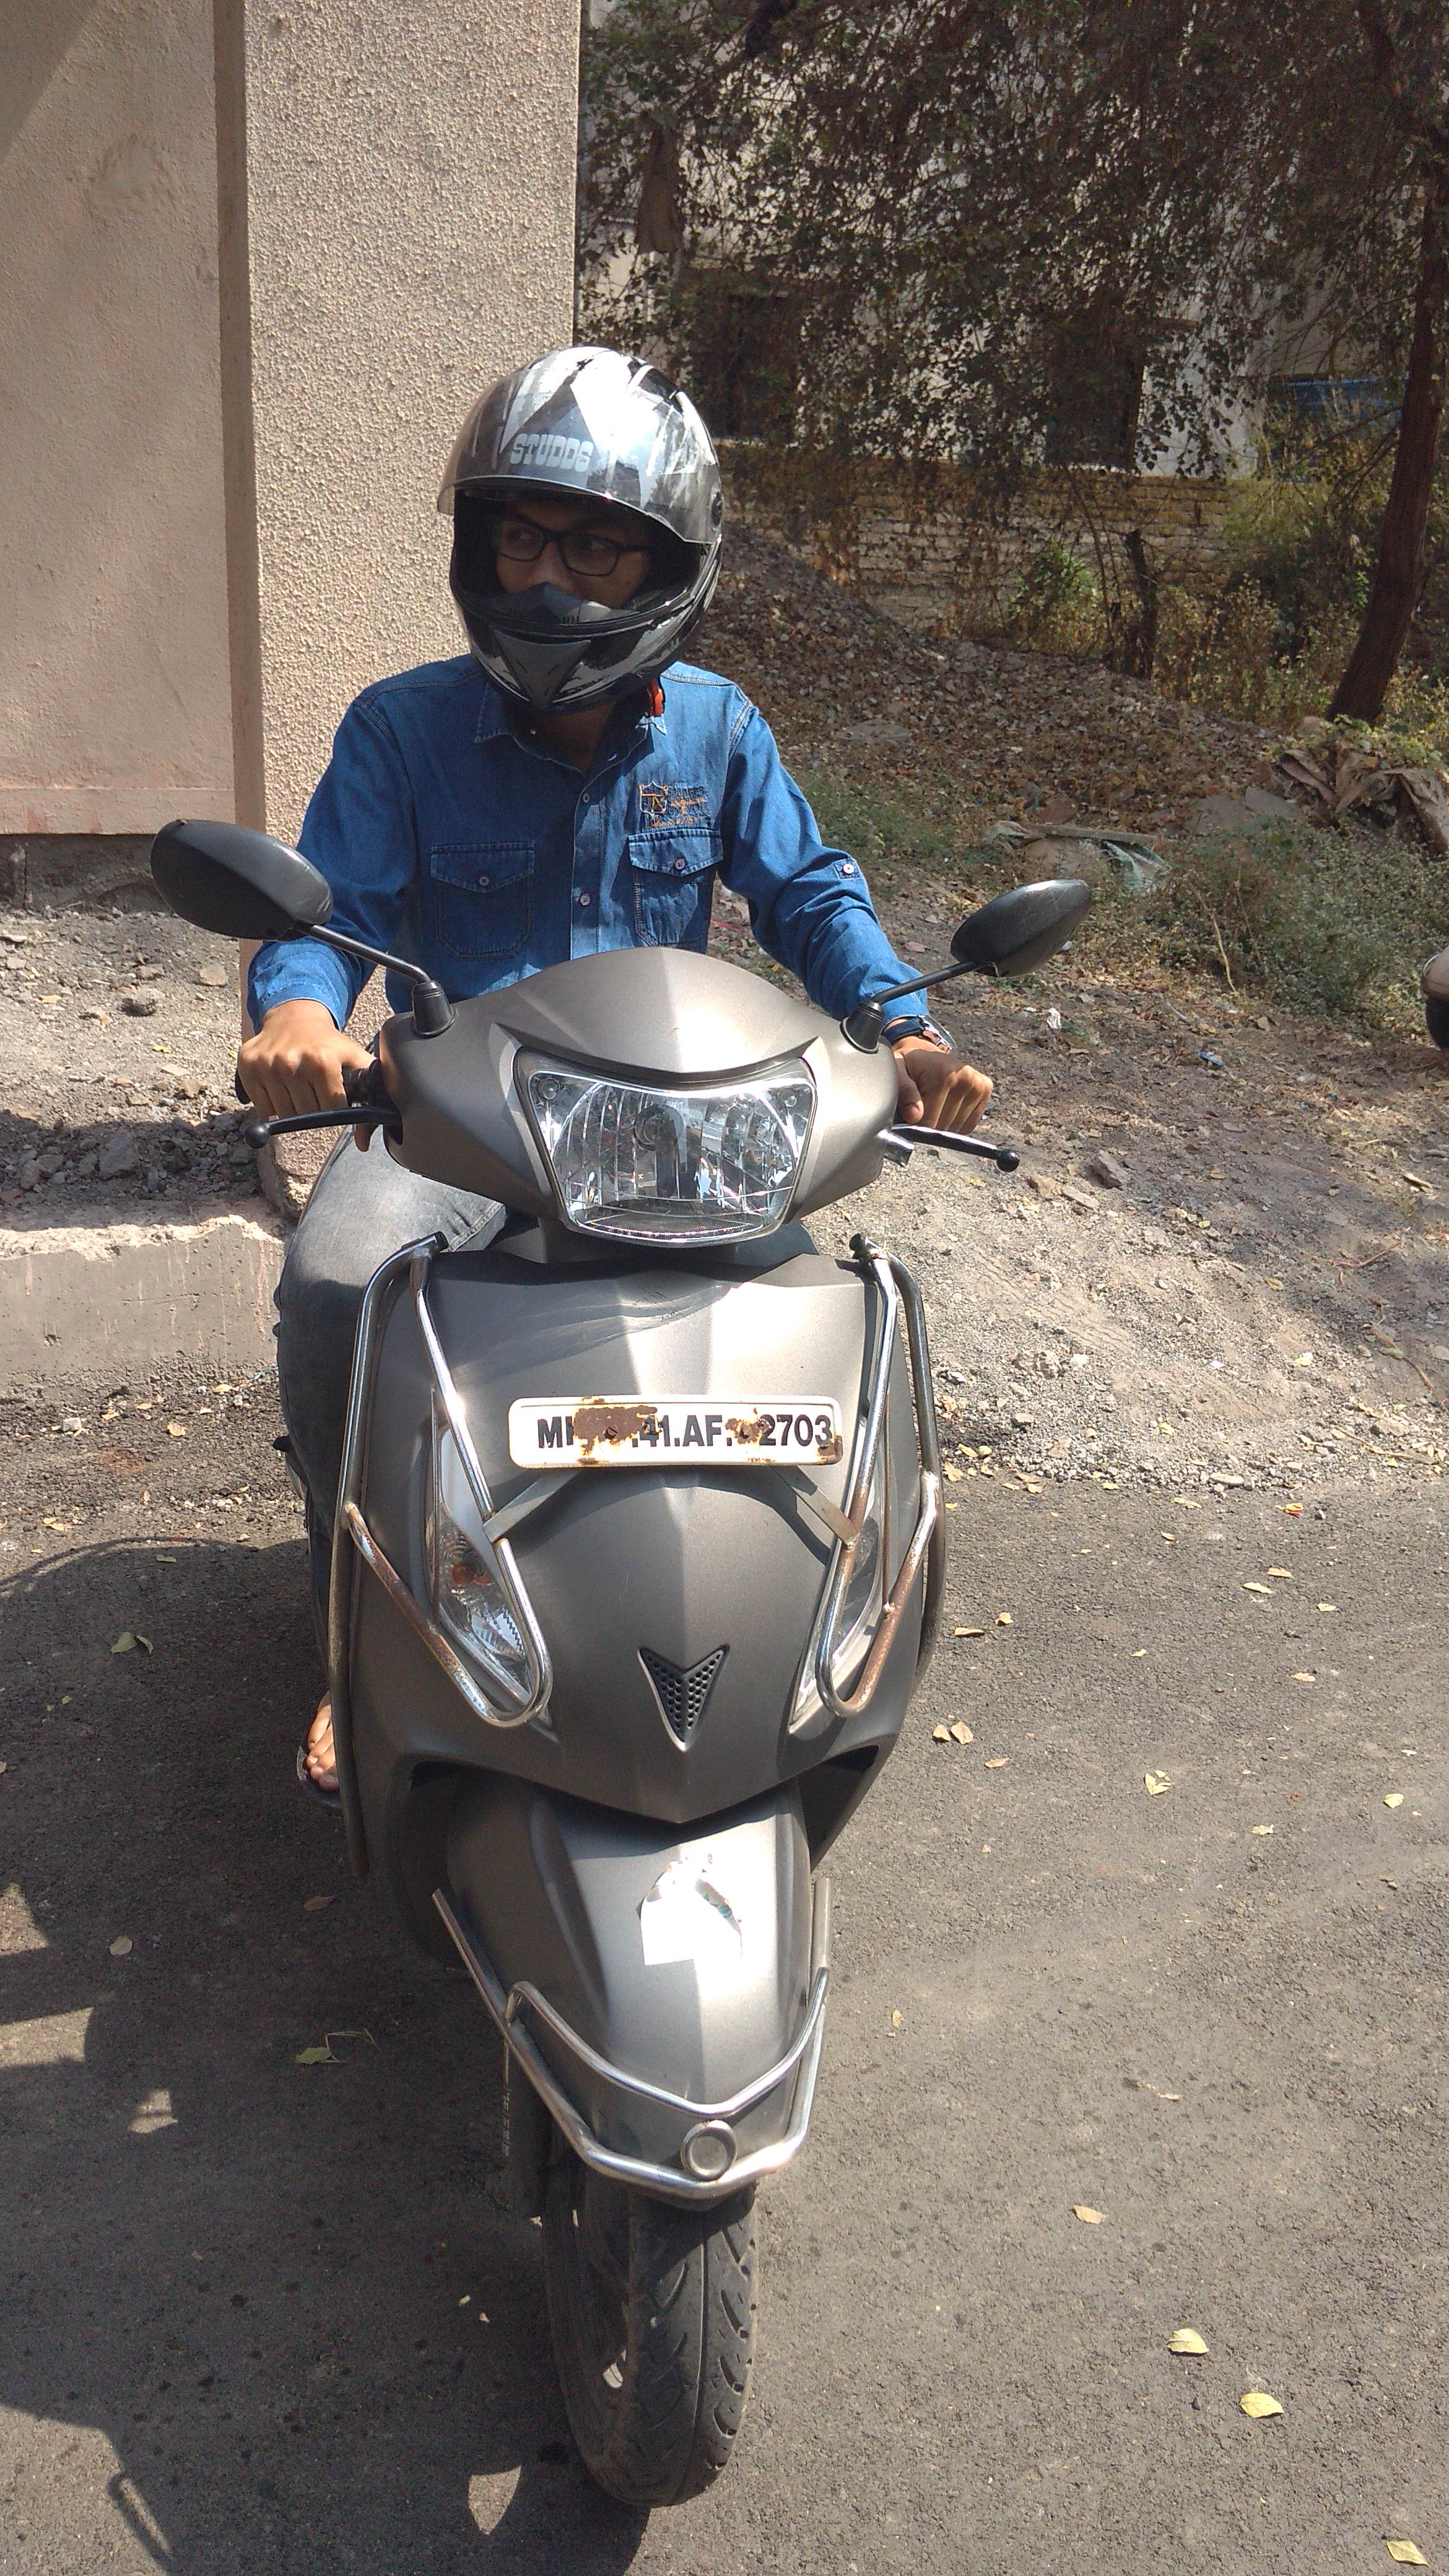helmet: (241, 318, 1008, 1461)
